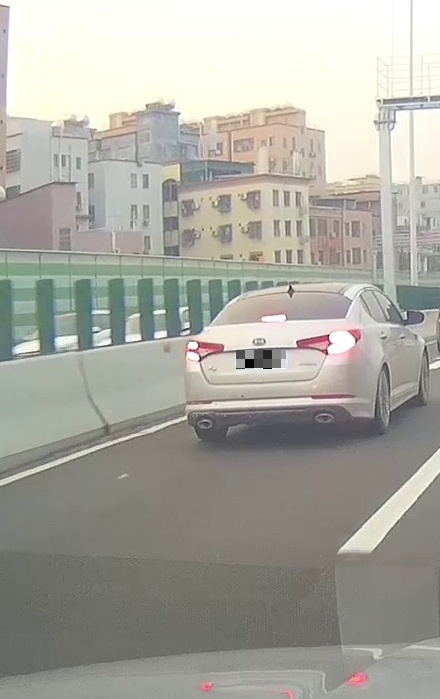L_light: (185, 339, 225, 362)
R_light: (295, 328, 362, 356)
T_light: (261, 314, 286, 323)
day-brake: (184, 283, 373, 441)
plate_1: (236, 350, 286, 369)
